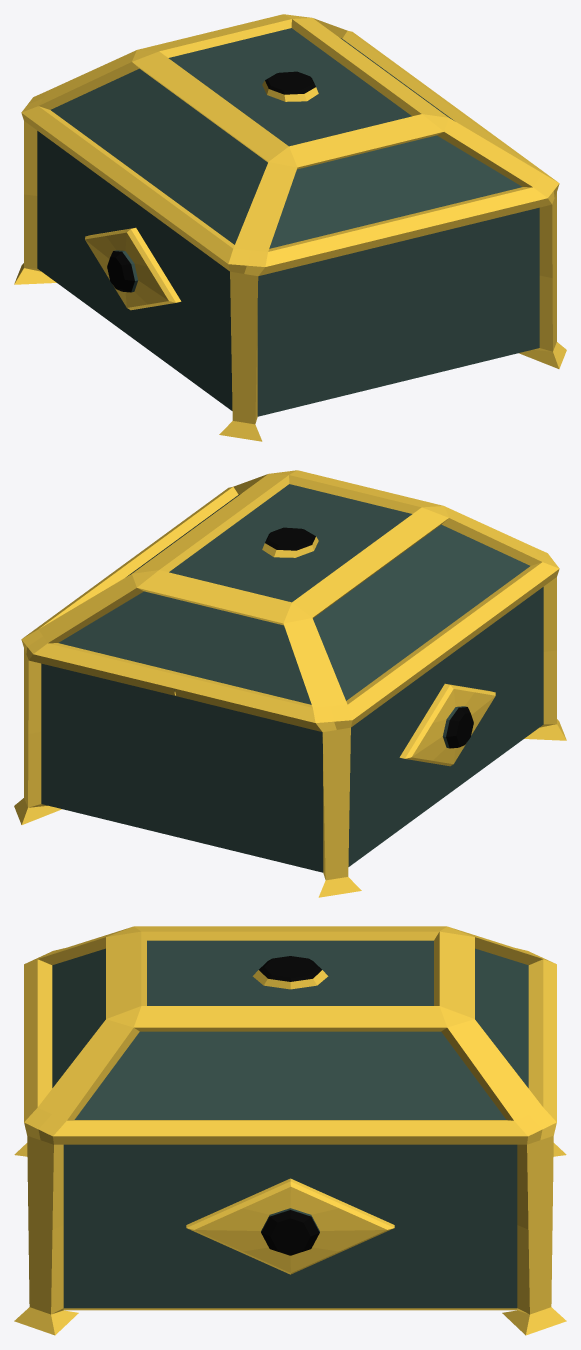
Rendered from shk.fbx.
The picture shows the model from 3 angles, top to bottom: view 1: azimuth 30°, elevation 25°; view 2: azimuth 150°, elevation 25°; view 3: azimuth 270°, elevation 25°; orthographic projection. The views are drawn at different scales.
Parts seen in each view (by area): view 1: Cube; view 2: Cube; view 3: Cube.
Part boxes in pixels (x1,y1,x2,y2): Cube: (14,14,566,441); Cube: (14,470,566,897); Cube: (14,926,566,1335).
Size of the model in its own units: 350 by 226 by 418.
